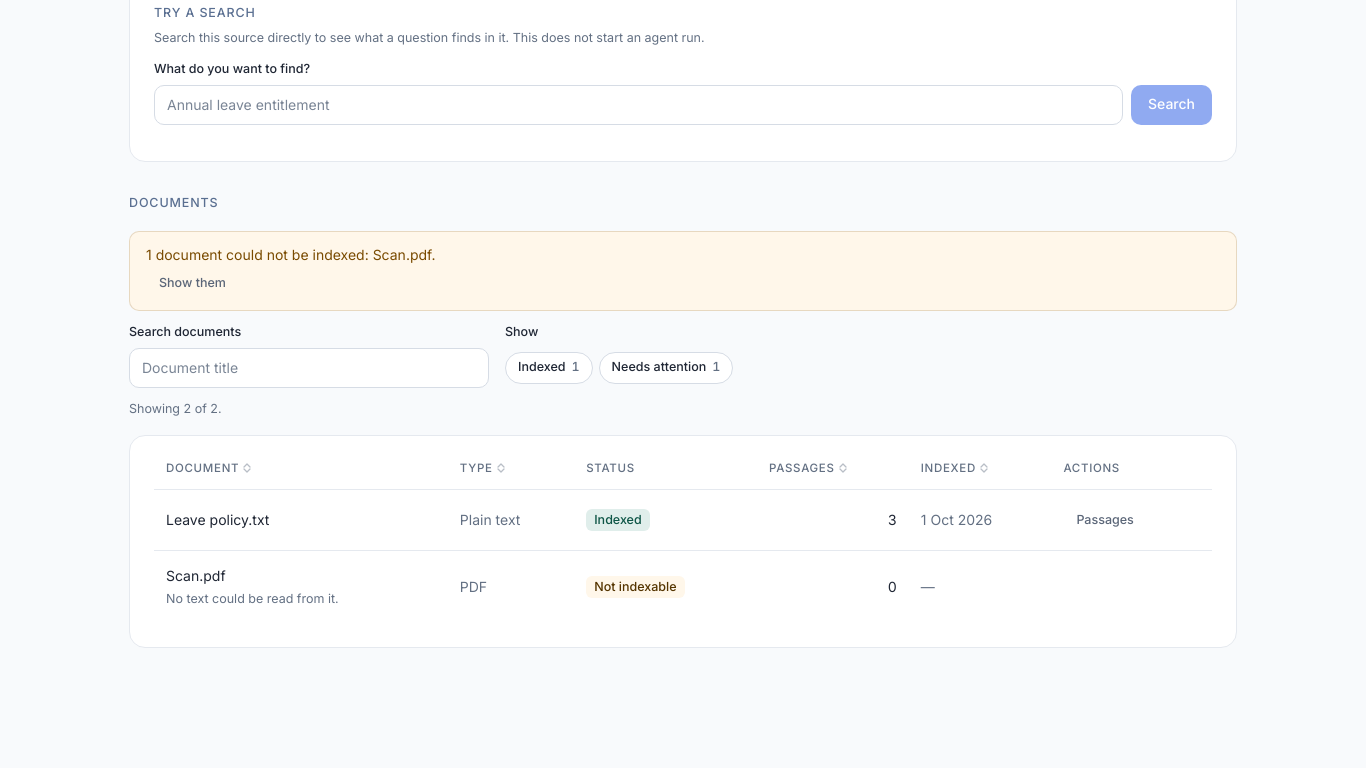
the passages of one document › opens beside the list in reading order, with page and heading, and leaves a scan without a button
(page scrolled)
Expected: the text "Leave policy.txt" is shown, 166,511 -> 269,528
What coordinates should you click on to do the following:
click the button with aria-label "View passages in Leave policy.txt"
I would click on:
 (1105, 520)
Its box is 1063,504 -> 1147,536.
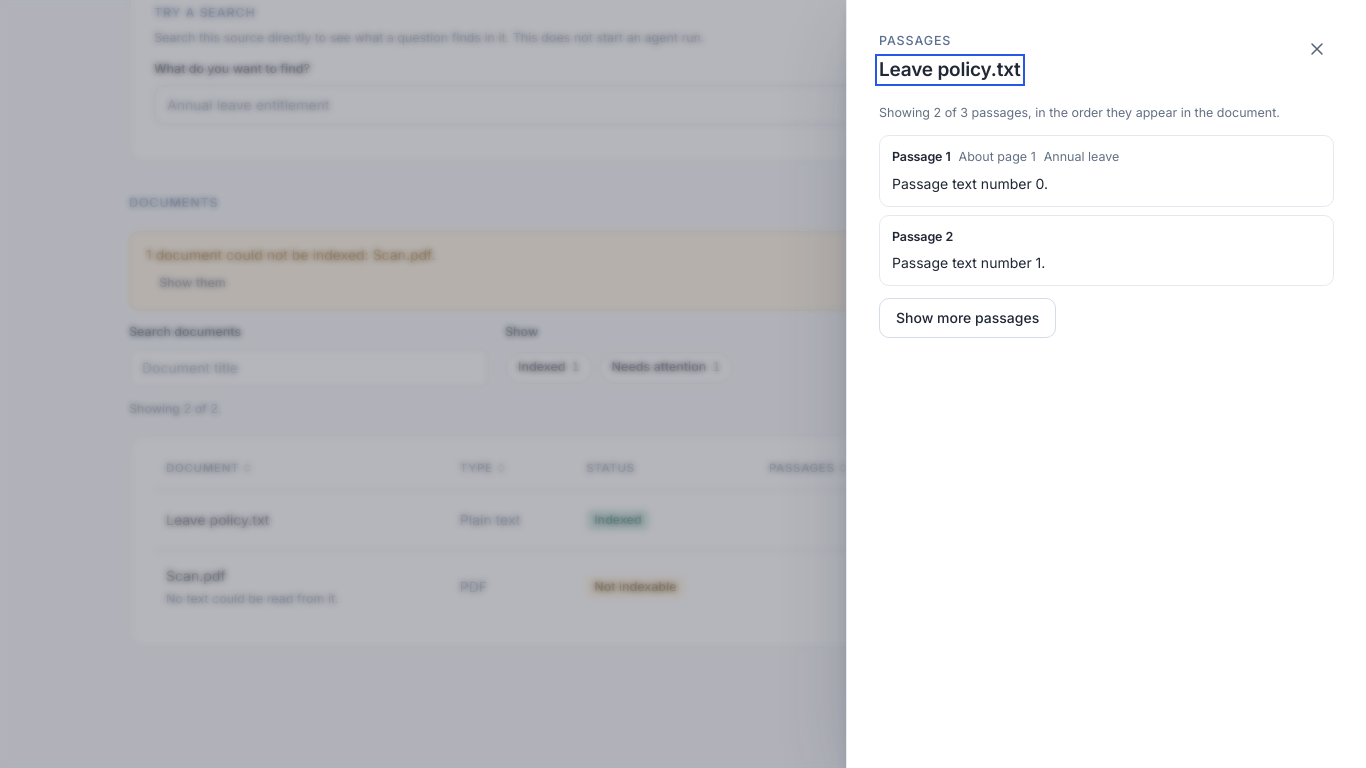
Expected: the text "Passage 1" is shown, 892,148 -> 951,167
Expected: the text "About page 1" is shown, 959,148 -> 1036,167
Expected: the text "Annual leave" is shown, 1044,148 -> 1119,167
